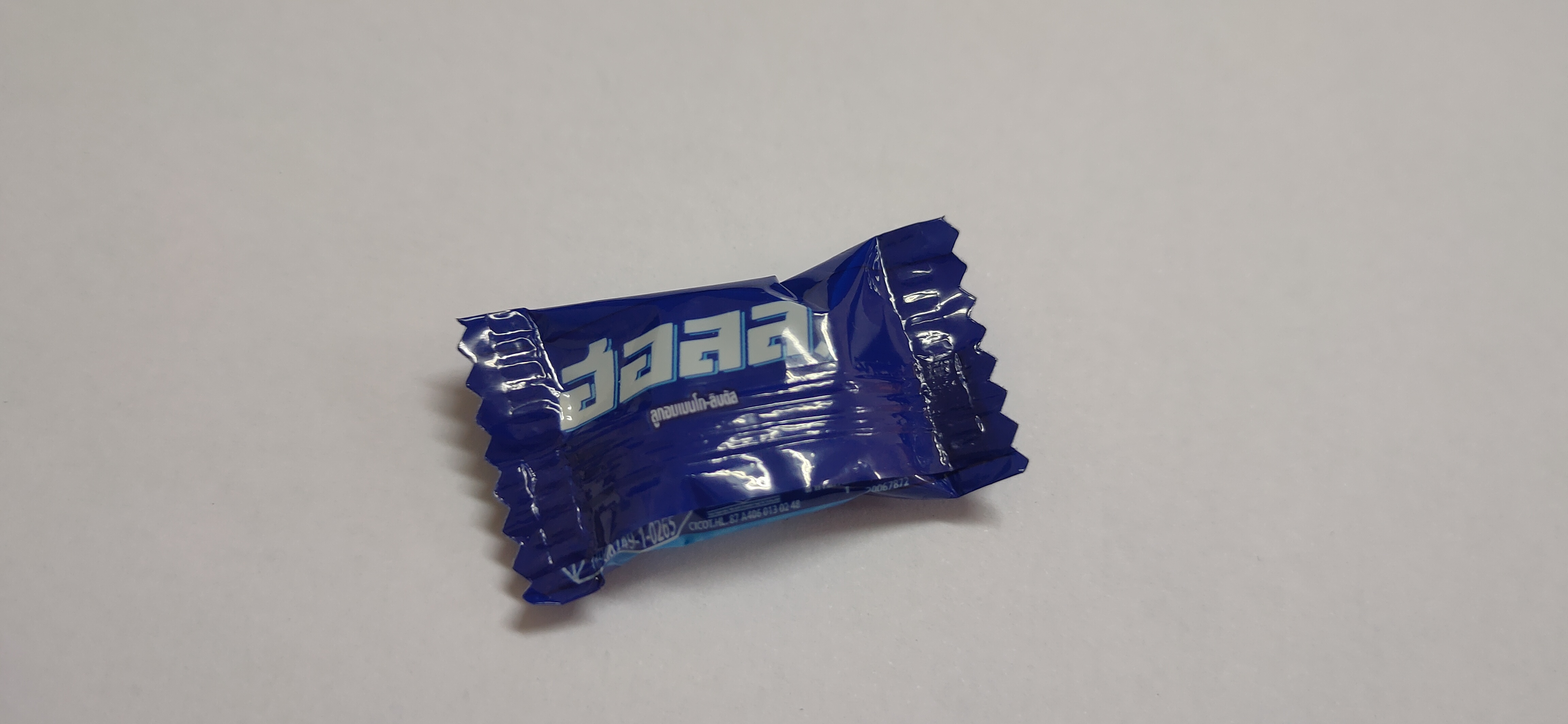plastic: (429, 198, 1032, 628)
